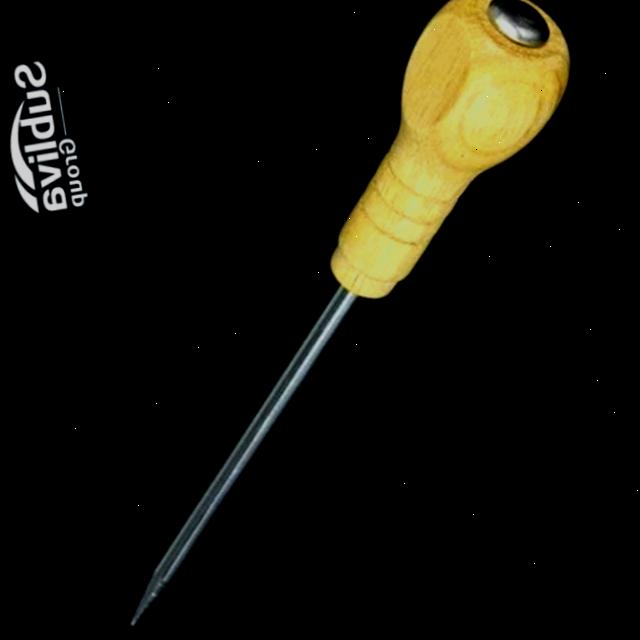ice pick: (37, 0, 640, 631)
